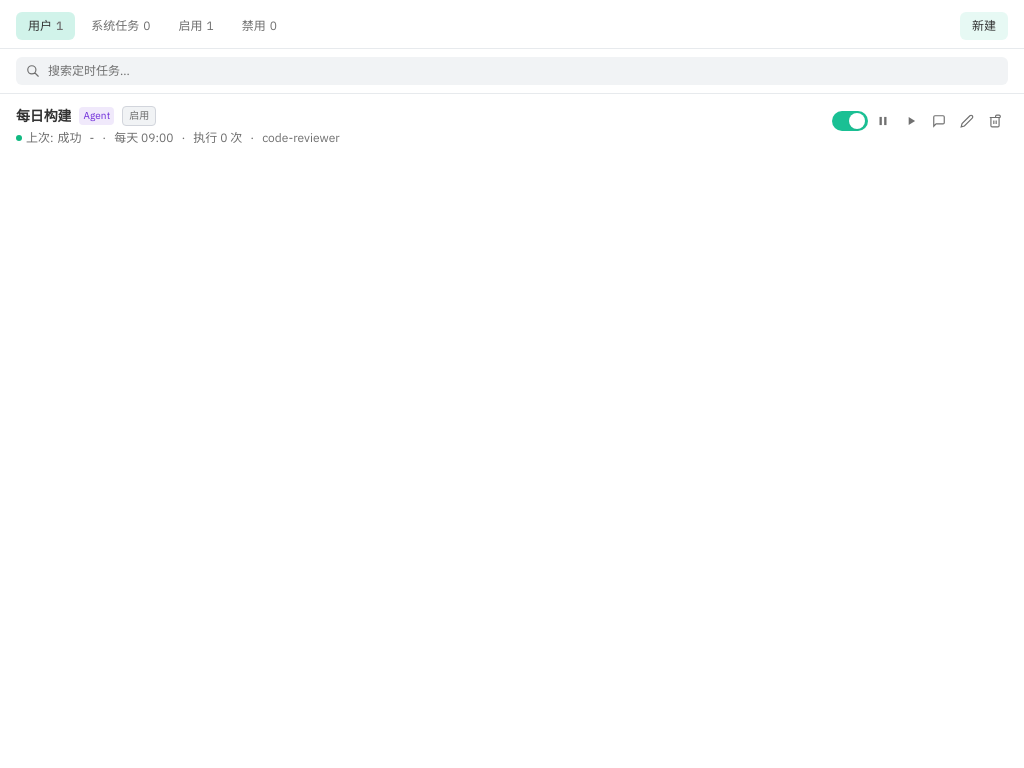
Test: 删除 —— 有确认、告知不可撤销、失败有原因 › 删除失败：原因进入可播报的错误通道
Click the button named "删除". click: {"x": 995, "y": 121}
box: [982, 108, 1008, 134]
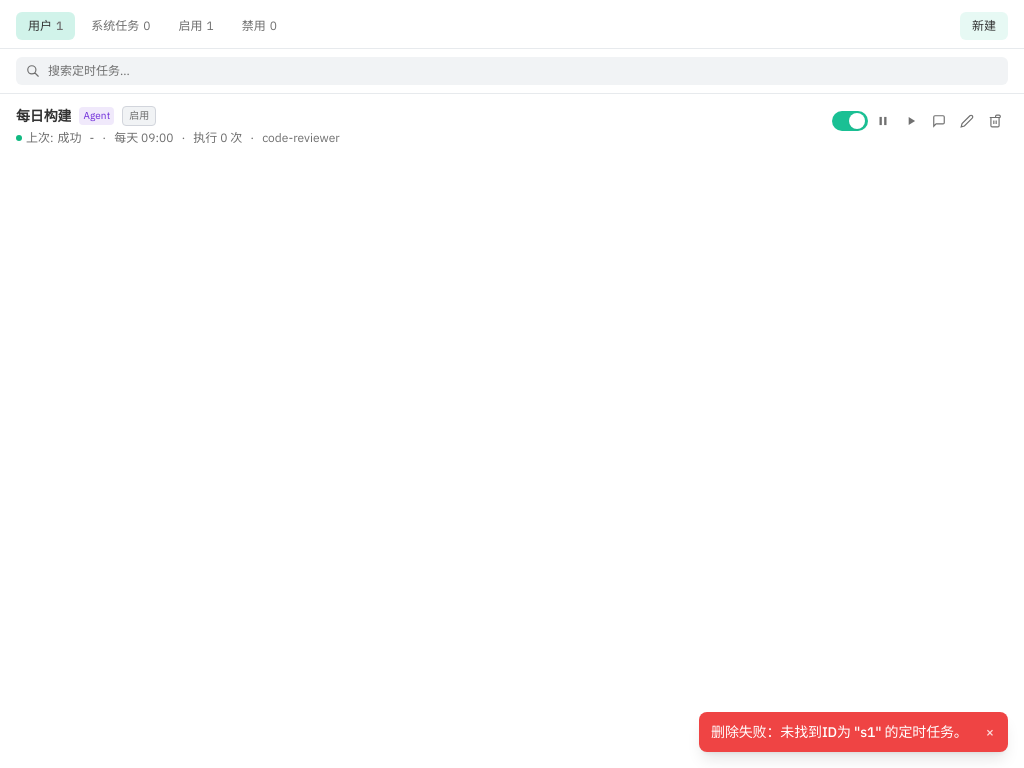
Result: the message shows "删除失败" at [711, 723, 968, 741]
Result: the message shows "未找到ID为 \"s1\" 的定时任务。" at [711, 723, 968, 741]
